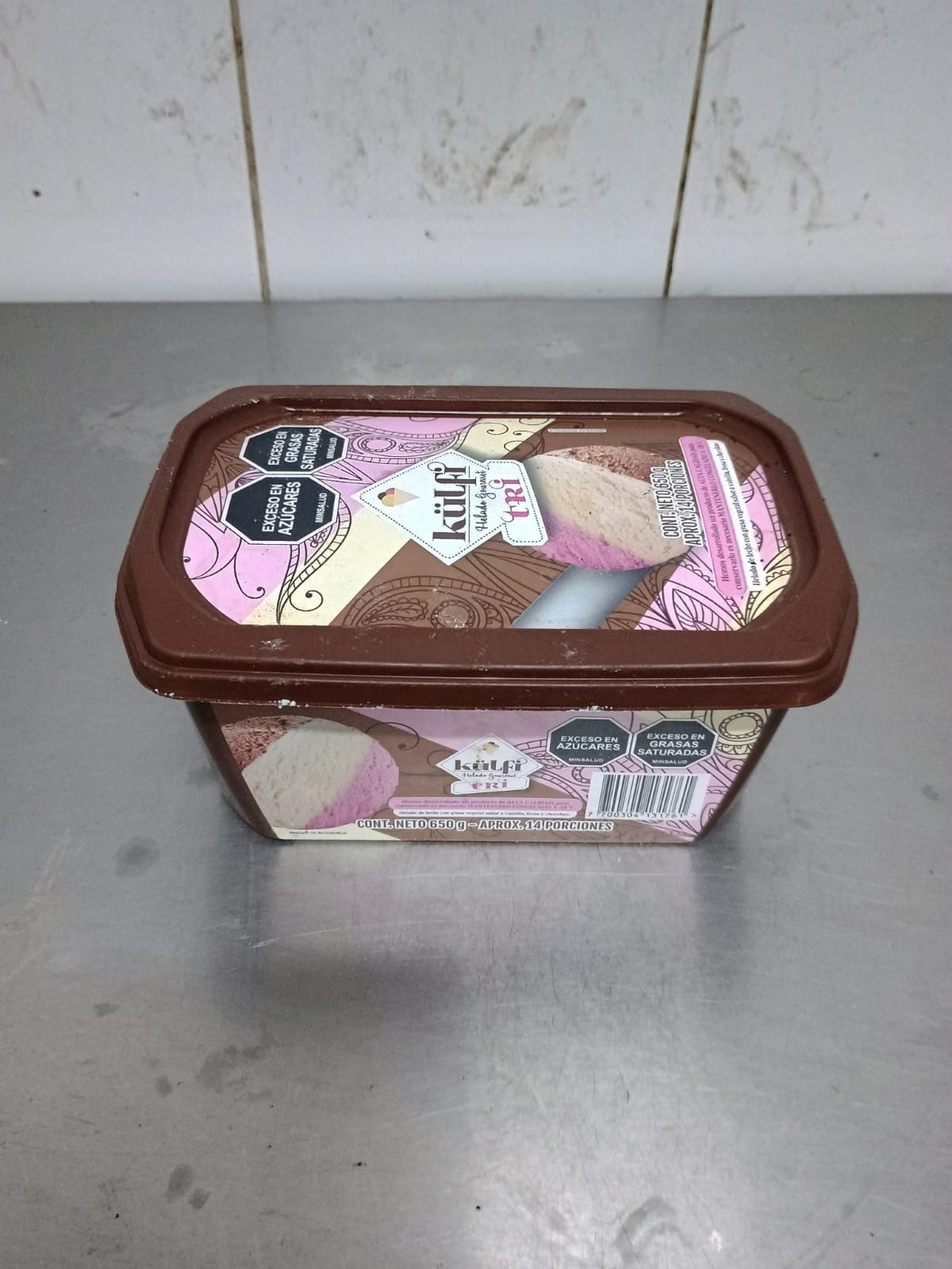Plastico: (119, 382, 857, 846)
